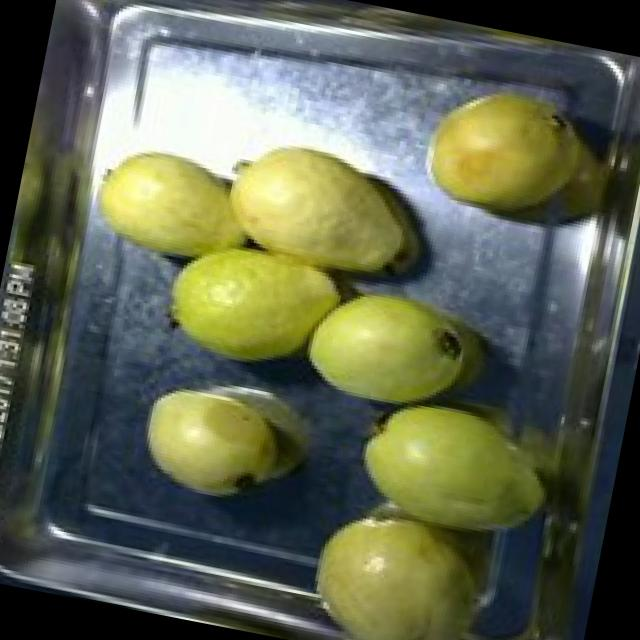Fruit: (206, 115, 459, 296), (402, 55, 632, 251), (336, 371, 570, 562), (284, 260, 510, 440), (290, 486, 534, 640), (144, 225, 363, 388), (73, 124, 264, 282), (125, 362, 303, 514)
